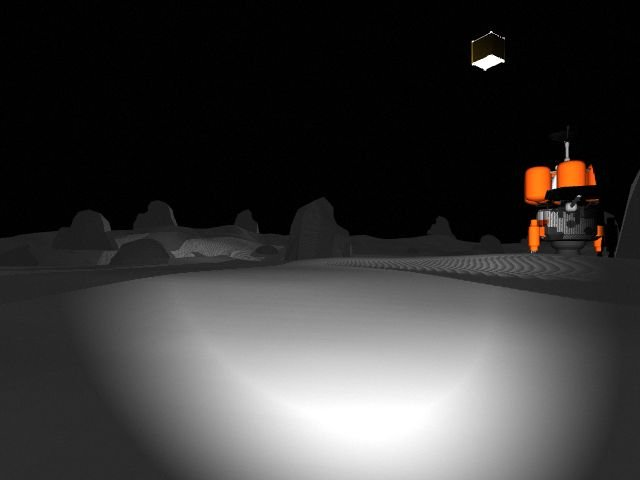cubesat: (467, 27, 511, 79)
